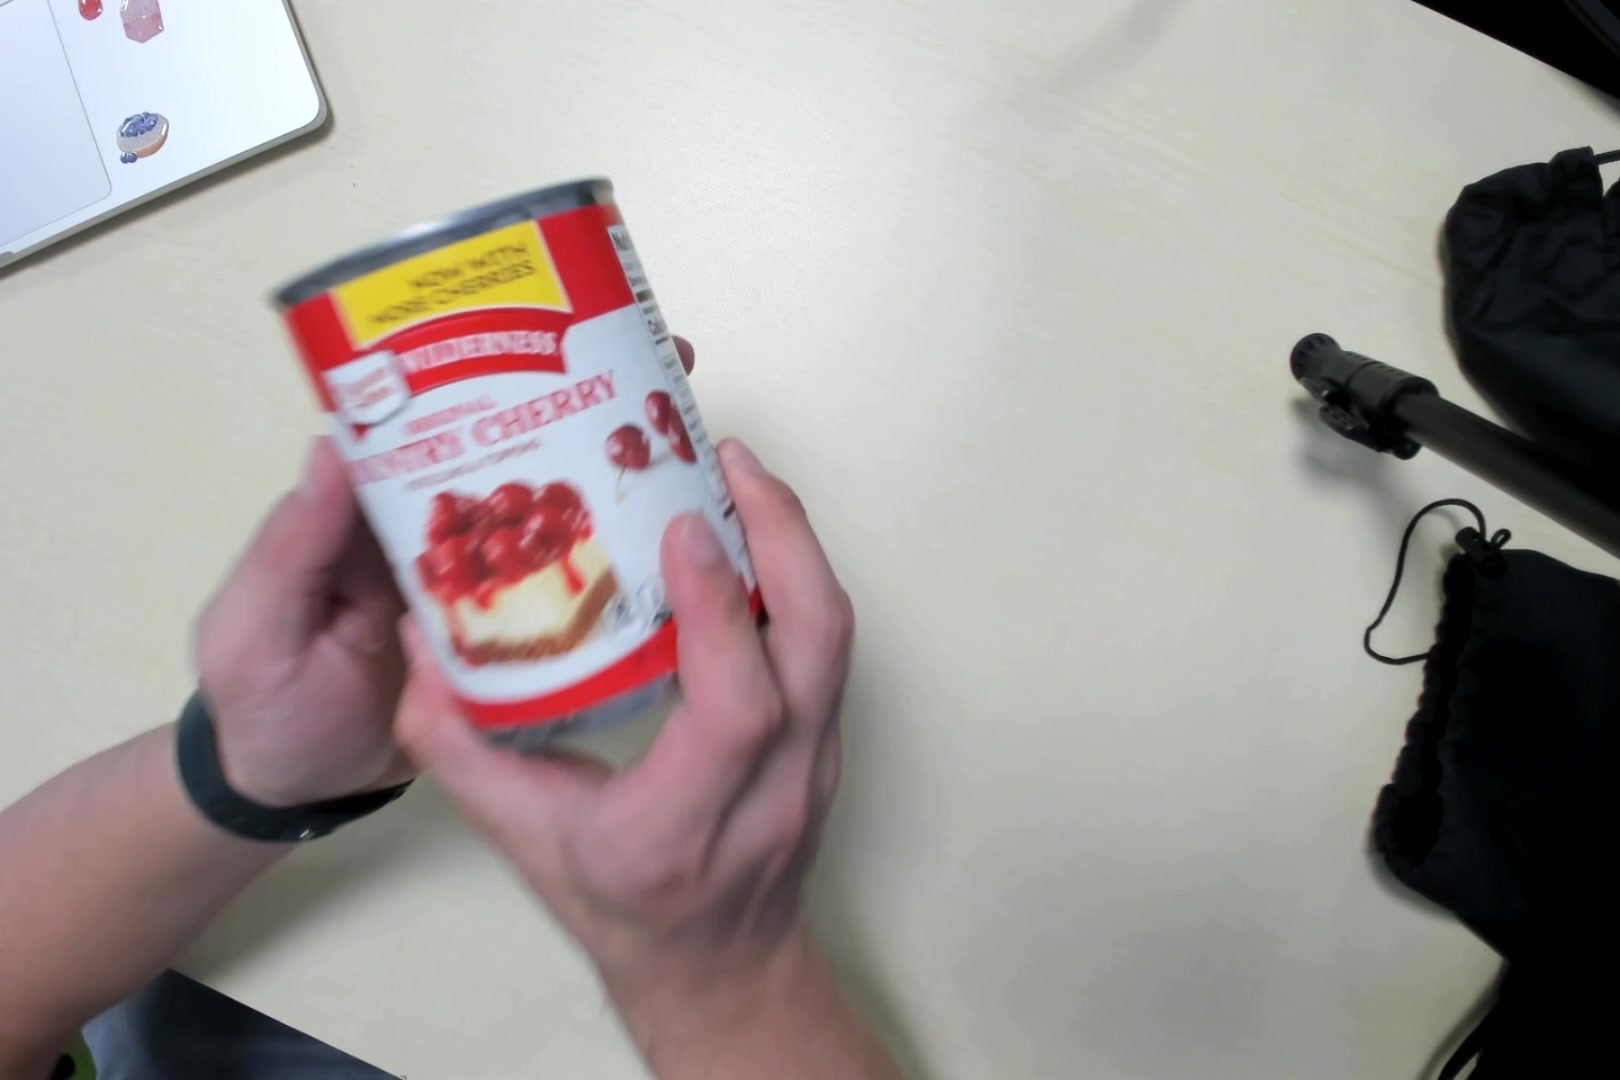OtherBakingNeeds_500-599g_NonHalal_NonHealthy: (278, 187, 767, 739)
